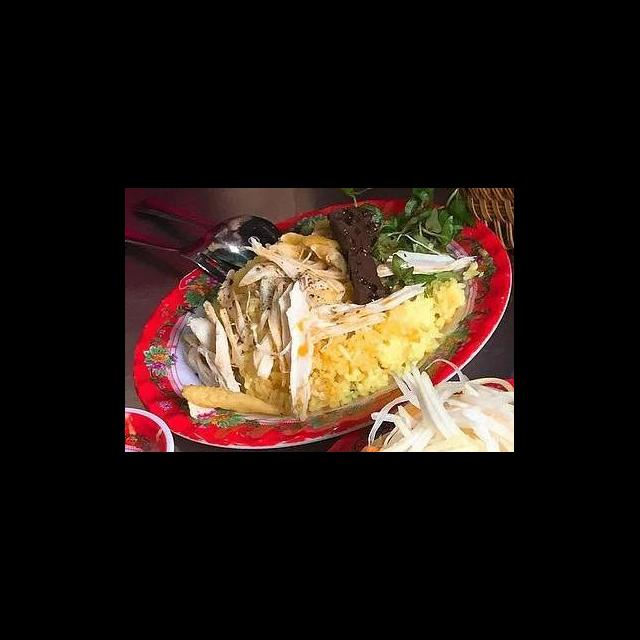com: (372, 274, 472, 382), (308, 318, 386, 417)
com ga: (142, 227, 473, 452)
rau ram: (366, 189, 479, 263), (380, 252, 440, 295)
thit ga: (238, 251, 350, 382), (304, 280, 428, 346), (177, 299, 246, 396), (282, 278, 316, 423), (178, 381, 286, 425), (374, 247, 478, 277)
